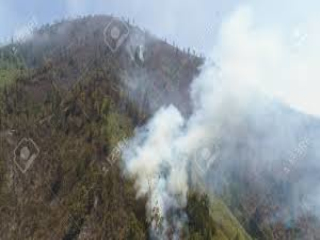smoke: (110, 44, 298, 235)
